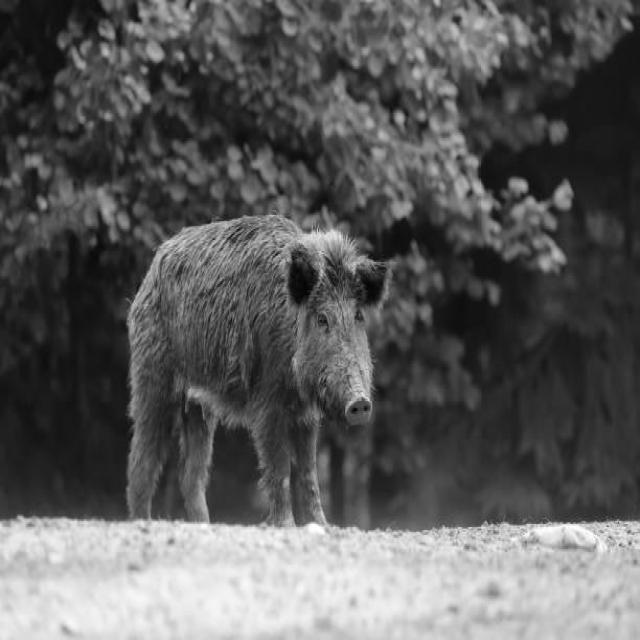boar: (127, 215, 392, 527)
